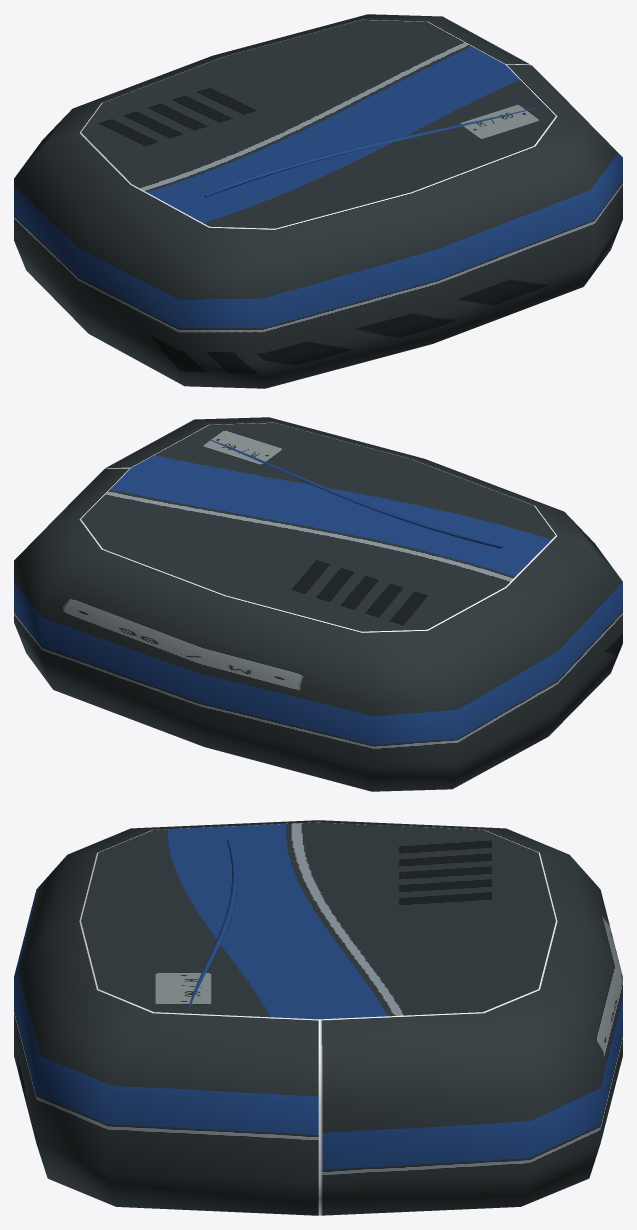
Rendered from MotorCowl_06_N_青艇・銀引.glb.
3 views of the same model, one above another, from view 1: azimuth 30°, elevation 25°; view 2: azimuth 150°, elevation 25°; view 3: azimuth 270°, elevation 25° (orthographic). The views are drawn at different scales.
Parts seen in each view (by area): view 1: MotorCowl_06_N; view 2: MotorCowl_06_N; view 3: MotorCowl_06_N.
Boxes of the visible parts, bbox=[...] form: MotorCowl_06_N: bbox=[14, 14, 622, 388]; MotorCowl_06_N: bbox=[14, 417, 622, 791]; MotorCowl_06_N: bbox=[14, 820, 622, 1215].
Size of the model in its own units: 0.332 by 0.1188 by 0.286.
1 material, 1 textured.
